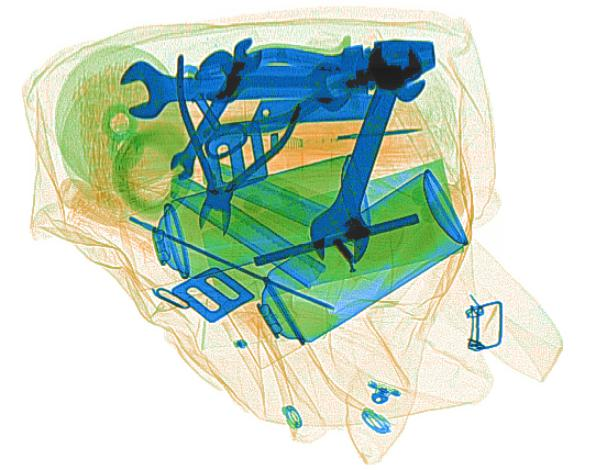knife: (158, 168, 325, 289), (196, 158, 340, 233), (241, 92, 382, 127)
pressure: (220, 168, 468, 370), (118, 151, 371, 290)
